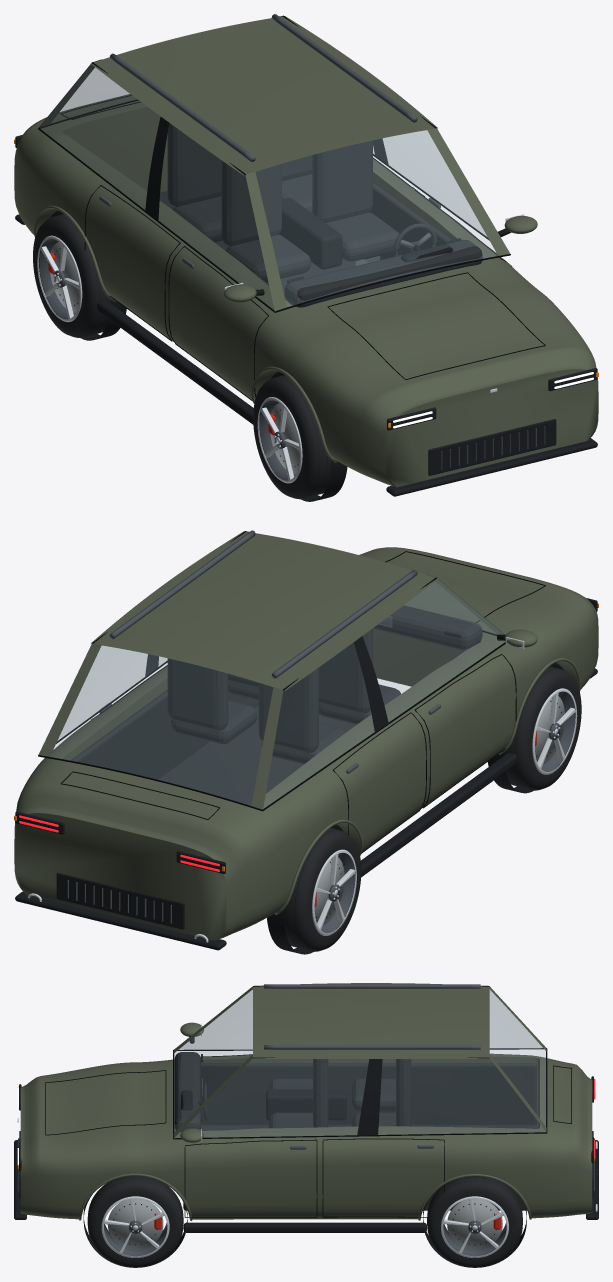
File: rover.glb
3 views of the same model, one above another, from view 1: azimuth 30°, elevation 25°; view 2: azimuth 150°, elevation 25°; view 3: azimuth 270°, elevation 25° (orthographic). The views are drawn at different scales.
Visible parts, largest first — view 1: Sculpted body shell.015, Painted roof.015, Windshield.015, Side glass.030, Interior dashboard.015, Interior seat back.051, Tire.062, Side glass.031, Interior seat back.050, Tire.060, Interior seat back.052, Front grille housing.015 (+24 smaller); view 2: Sculpted body shell.015, Painted roof.015, Rear glass.015, Side glass.030, Interior door card.031, Interior cabin floor.015, Tire.060, Interior seat back.053, Tire.062, Side glass.031, Interior seat back.052, Rear diffuser grille.015 (+26 smaller); view 3: Sculpted body shell.015, Side glass.031, Painted roof.015, Interior door card.030, Windshield.015, Tire.063, Tire.061, Rear glass.015, Side glass.030, Rocker aero sill.031, Brake disc.061, Brake disc.063 (+25 smaller).
Part boxes in pixels (left/top/right/bottom): Sculpted body shell.015: left=14, top=94, right=598, bottom=487; Painted roof.015: left=98, top=18, right=429, bottom=172; Windshield.015: left=256, top=130, right=497, bottom=306; Side glass.030: left=40, top=65, right=273, bottom=309; Interior dashboard.015: left=284, top=239, right=482, bottom=307; Interior seat back.051: left=312, top=140, right=372, bottom=222; Tire.062: left=253, top=375, right=330, bottom=498; Side glass.031: left=373, top=131, right=486, bottom=236; Interior seat back.050: left=221, top=160, right=281, bottom=246; Tire.060: left=33, top=214, right=110, bottom=337; Interior seat back.052: left=167, top=123, right=221, bottom=206; Front grille housing.015: left=428, top=419, right=556, bottom=475; Sculpted body shell.015: left=14, top=547, right=598, bottom=940; Painted roof.015: left=98, top=533, right=430, bottom=688; Rear glass.015: left=50, top=646, right=272, bottom=805; Side glass.030: left=263, top=580, right=505, bottom=808; Interior door card.031: left=70, top=689, right=258, bottom=779; Interior cabin floor.015: left=158, top=706, right=356, bottom=805; Tire.060: left=283, top=828, right=361, bottom=951; Interior seat back.053: left=167, top=658, right=228, bottom=730; Tire.062: left=504, top=666, right=581, bottom=790; Side glass.031: left=58, top=646, right=166, bottom=740; Interior seat back.052: left=258, top=667, right=318, bottom=752; Rear diffuser grille.015: left=56, top=872, right=184, bottom=929; Sculpted body shell.015: left=20, top=1053, right=592, bottom=1219; Side glass.031: left=175, top=1059, right=545, bottom=1137; Painted roof.015: left=253, top=983, right=489, bottom=1058; Interior door card.030: left=201, top=1063, right=536, bottom=1125; Windshield.015: left=174, top=990, right=252, bottom=1131; Tire.063: left=87, top=1176, right=183, bottom=1267; Tire.061: left=427, top=1176, right=522, bottom=1267; Rear glass.015: left=490, top=990, right=545, bottom=1125; Side glass.030: left=179, top=990, right=541, bottom=1049; Rocker aero sill.031: left=183, top=1222, right=426, bottom=1232; Brake disc.061: left=447, top=1199, right=502, bottom=1249; Brake disc.063: left=107, top=1199, right=163, bottom=1249.
Size of the model in its own units: 2.53 by 2.1 by 5.36.
